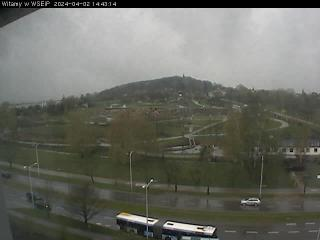bus: (114, 209, 220, 240)
car: (239, 196, 262, 207), (25, 190, 42, 202), (34, 200, 51, 212), (0, 171, 15, 180)
